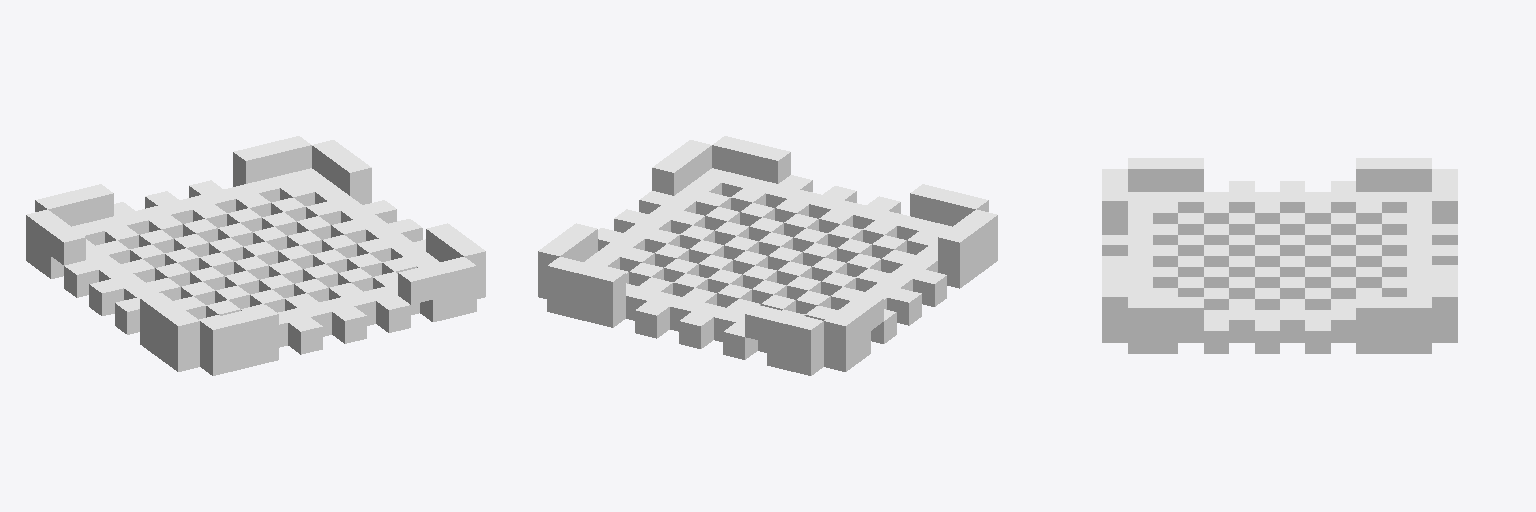
File: grate_ym.obj
3 renders of one model, left to right at view 1: azimuth 30°, elevation 25°; view 2: azimuth 150°, elevation 25°; view 3: azimuth 270°, elevation 25°, orthographic.
Bounding box in the file's own units: 14 × 2 × 14.